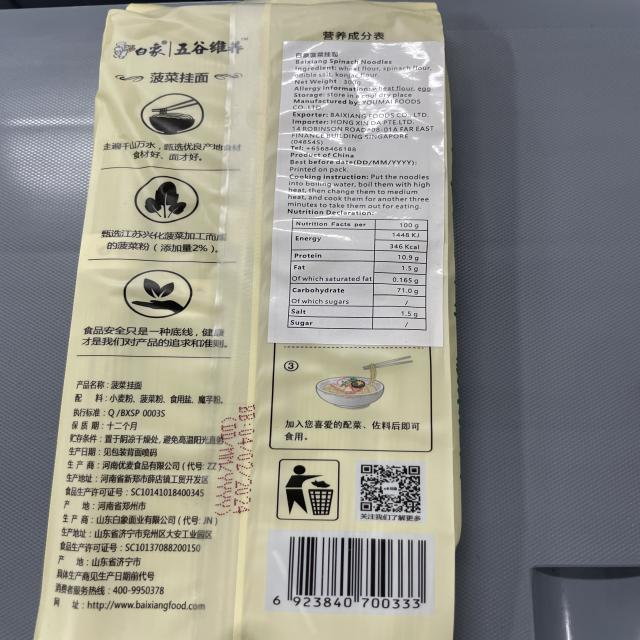object_name: (84, 4, 450, 640)
